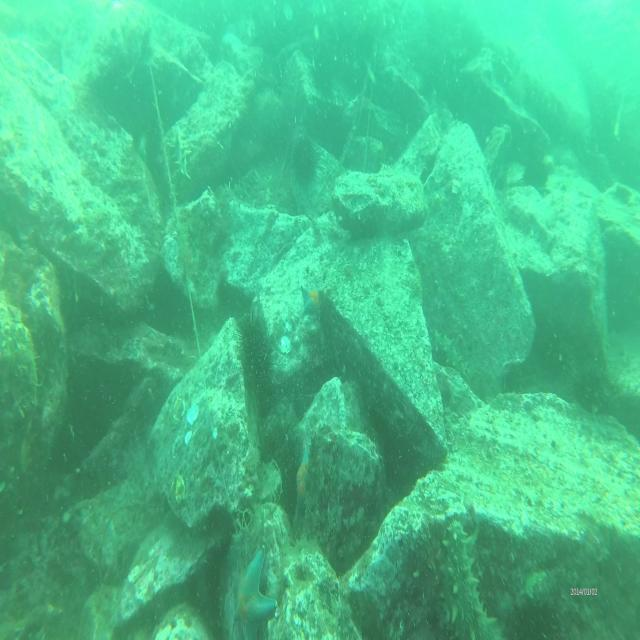echinus: (236, 308, 279, 416), (289, 131, 321, 196), (254, 88, 286, 145), (305, 62, 336, 103)
holothurian: (443, 515, 497, 640), (430, 326, 465, 376), (168, 125, 192, 181), (230, 170, 260, 202), (519, 574, 547, 602)
starfish: (225, 541, 278, 640), (294, 438, 315, 527), (300, 278, 326, 316)
